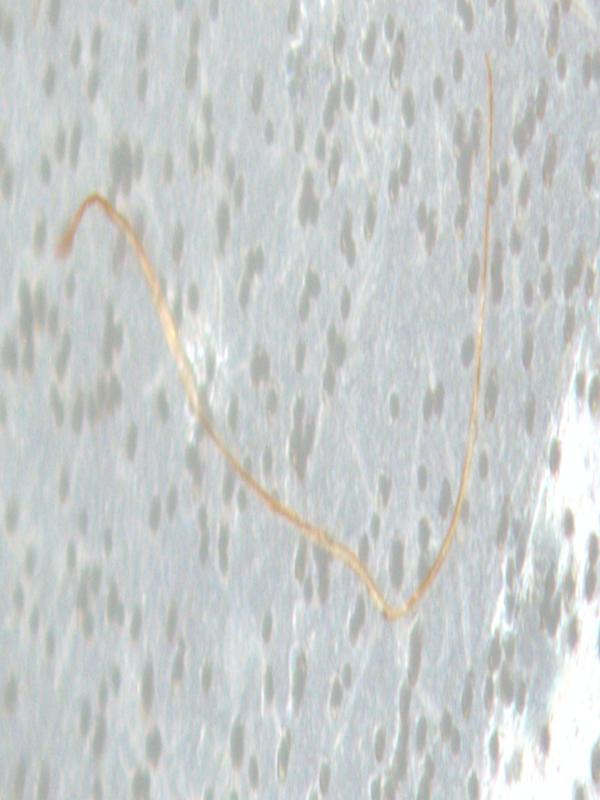microplastic: (55, 46, 496, 624)
